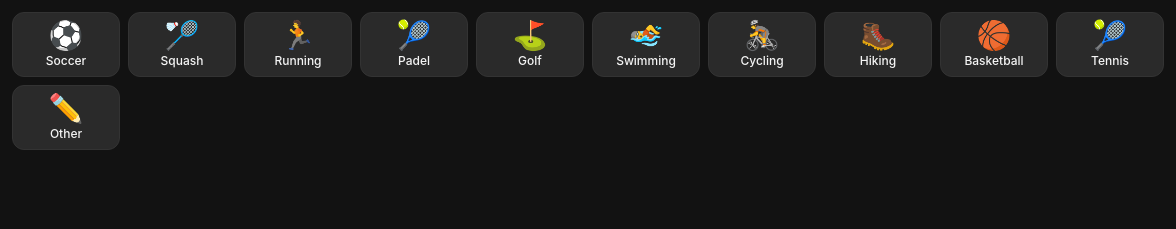
Test: ActivitySelector › shows custom input when 'Other' tile is clicked
Click the button with test id "activity-tile-other" at [66, 118], box x1=12 y1=85 x2=120 y2=150
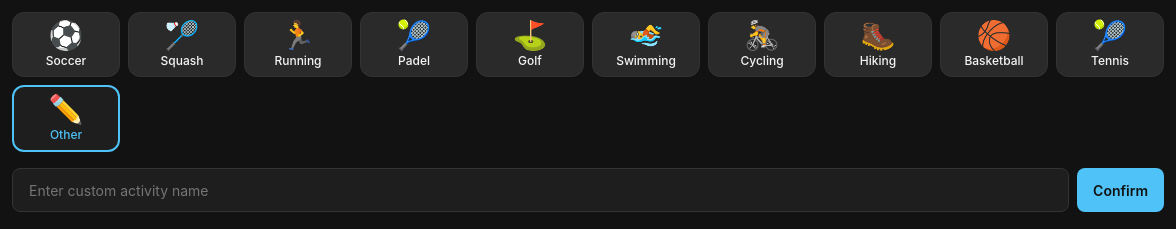
Expected: the element with test id "custom-activity-input-container" is shown, x1=12 y1=168 x2=1164 y2=212
Expected: the field with test id "custom-activity-input" is shown, x1=12 y1=168 x2=1069 y2=212
